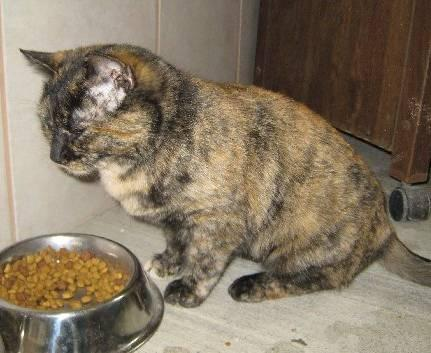cat: (21, 44, 430, 307)
